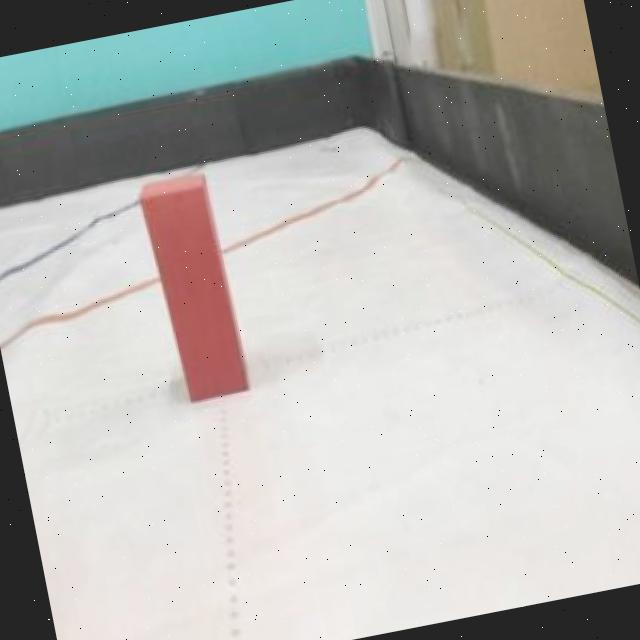redbox: (136, 172, 250, 406)
